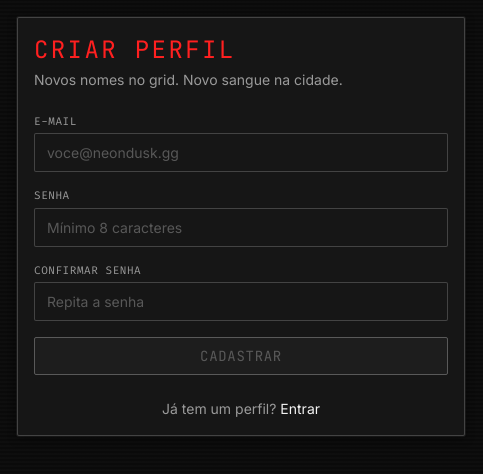
RegisterView › should disable submit until email, password and confirm are valid
This screenshot has width=483, height=474.
Check: the button "CADASTRAR" is disabled, box [34,337,448,375]
Type "new@neondusk.gg" into the field with placeholder "voce@neondusk.gg" at coordinates (241, 153), box [34,133,448,172]
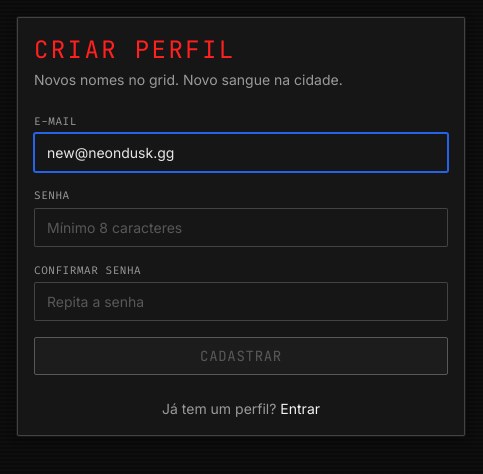
Type "secret123" into the password field with placeholder "Mínimo 8 caracteres" at coordinates (241, 227), box [34,208,448,247]
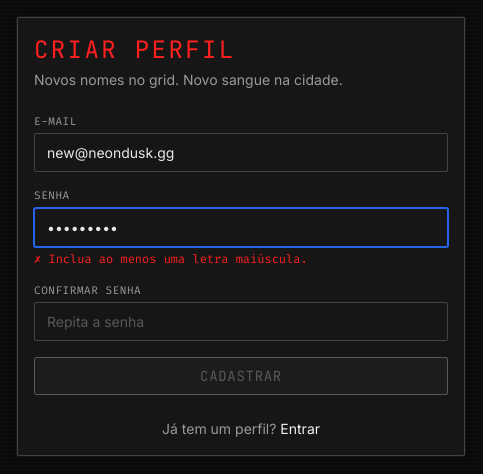
Type "secret123" into the password field with placeholder "Repita a senha" at coordinates (241, 322), box [34,302,448,341]
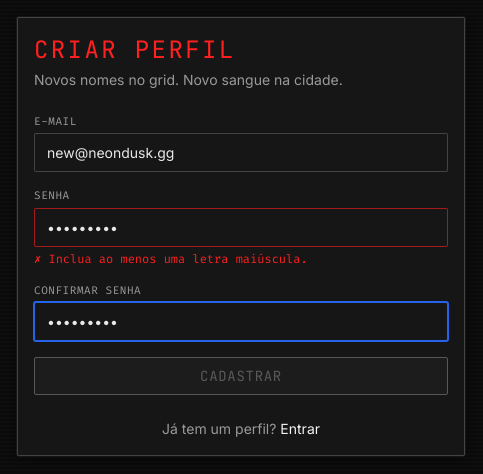
Check: the button "CADASTRAR" is disabled, box [34,357,448,395]
Type "S" into the password field with placeholder "Mínimo 8 caracteres" at coordinates (241, 227), box [34,208,448,247]
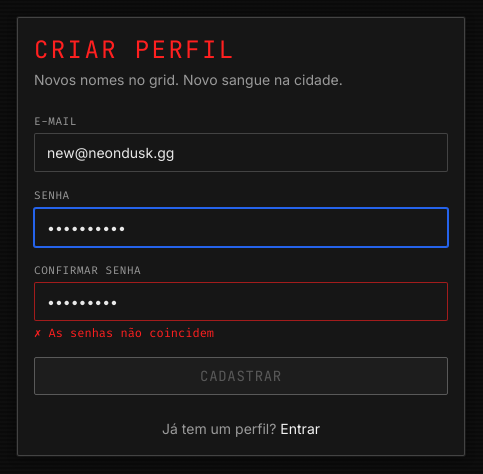
Type "S" into the password field with placeholder "Repita a senha" at coordinates (241, 302), box [34,282,448,321]
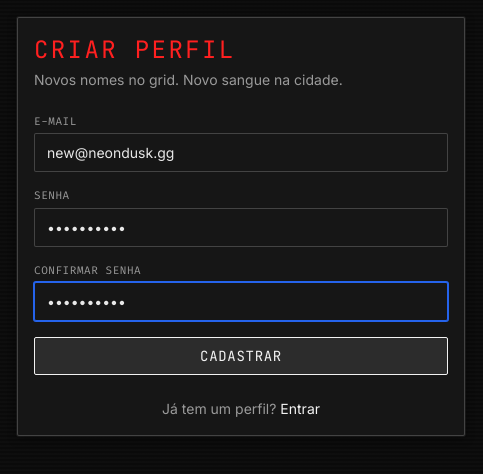
Check: the button "CADASTRAR" is enabled, box [34,337,448,375]
